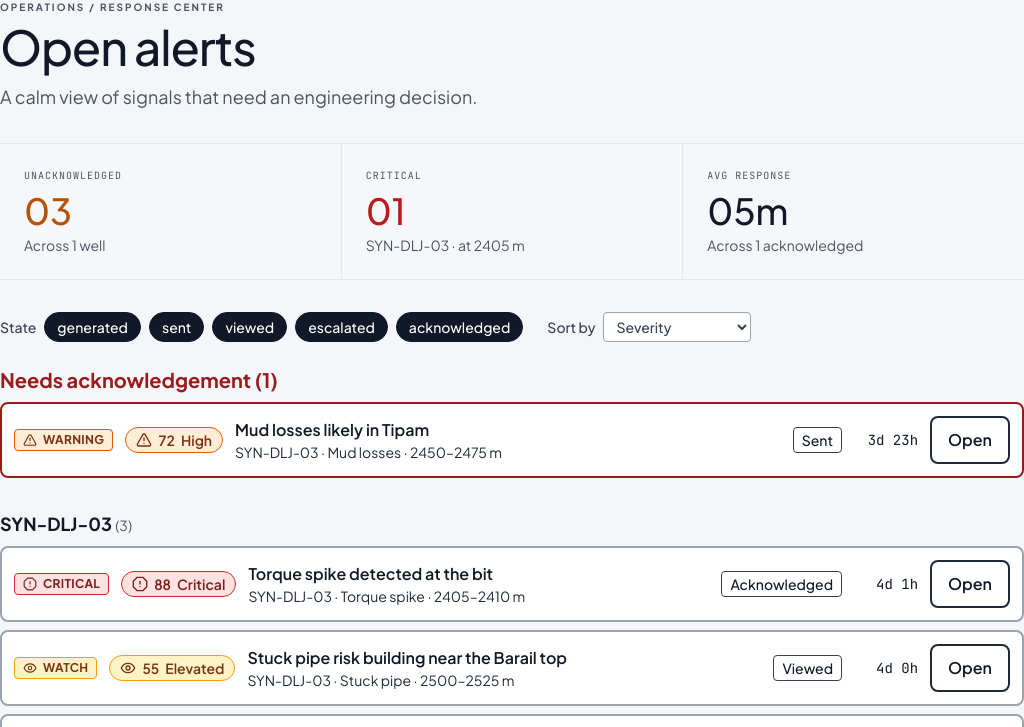
Test: AlertsPage (/alerts) › Open shows the alert card full screen
Click the button with aria-label "Open alert: Mud losses likely in Tipam" at x=970, y=440, box 930,416 -> 1010,464
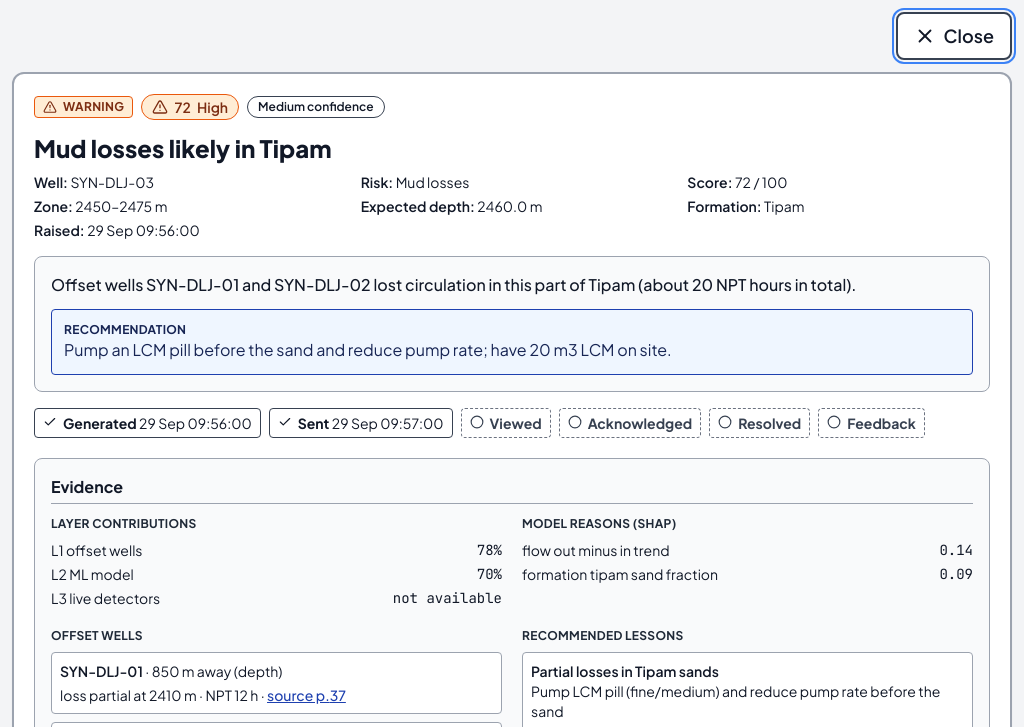
Expected: the heading "Mud losses likely in Tipam" is shown, 34,133 -> 332,163
